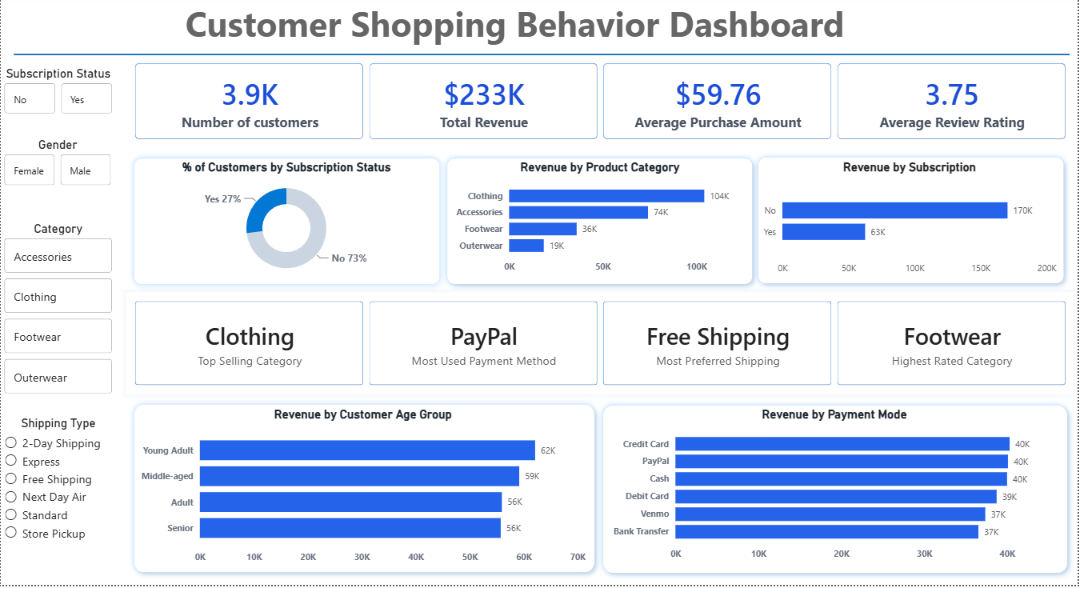

Layout of this report page (visuals, bound fields, positions):
{"tool":"powerbi","page":{"name":"Page 1","canvas":[1500,820],"ordinal":0},"visuals":[{"type":"cardVisual","fields":{"Data":["public customer.Top Selling Category","public customer.Most Used Payment Method","public customer.Most Preferred Shipping","public customer.Highest Rated Category"]},"box":[170,408.6,1330,151.4],"z":0},{"type":"shape","box":[830,561.4,664.3,251.4],"z":1000},{"type":"shape","box":[1045.6,215.6,443.3,193.3],"z":2000},{"type":"shape","box":[612.9,217.1,442.9,192.9],"z":3000},{"type":"shape","box":[177,217,443,193],"z":4000},{"type":"cardVisual","fields":{"Data":["public customer.Number of customers","public customer.Total Revenue","public customer.Average Purchase Amount","public customer.Average Review Rating"]},"box":[170,77.1,1330,140],"z":5000},{"type":"textbox","box":[251.4,0,947.1,77.1],"z":6000},{"type":"donutChart","title":"% of  Customers by Subscription Status","fields":{"Category":["public customer.subscription_status"],"Y":["CountNonNull(public customer.customer_id)"]},"box":[190,229,417,171],"z":7000},{"type":"clusteredBarChart","title":"Revenue by Product Category","fields":{"Category":["public customer.category"],"Y":["Sum(public customer.purchase_amount)"]},"box":[628.6,228.6,412.9,167.1],"z":8000},{"type":"advancedSlicerVisual","fields":{"Values":["public customer.gender"]},"box":[0,196.7,158.9,72.2],"z":9000},{"type":"advancedSlicerVisual","fields":{"Values":["public customer.category"]},"box":[0,312.9,160,248.6],"z":10000},{"type":"listSlicer","fields":{"Values":["public customer.shipping_type"]},"box":[0,584.9,160.2,235.4],"z":11000},{"type":"shape","box":[177,560,659,252],"z":12000},{"type":"clusteredBarChart","title":"Revenue by Customer Age Group","fields":{"Category":["public customer.age_group"],"Y":["Sum(public customer.purchase_amount)"]},"box":[190,572.9,630,227.1],"z":13000},{"type":"shape","box":[18.1,76.6,1470.7,9.7],"z":14000},{"type":"advancedSlicerVisual","fields":{"Values":["public customer.subscription_status"]},"box":[0,97.1,160,71.4],"z":15000},{"type":"clusteredBarChart","title":"Revenue by Subscription","fields":{"Category":["public customer.subscription_status"],"Y":["Sum(public customer.purchase_amount)"]},"box":[1055.7,228.6,420,168.6],"z":16000},{"type":"clusteredBarChart","title":"Revenue by Payment Mode","fields":{"Category":["public customer.payment_method"],"Y":["Sum(public customer.purchase_amount)"]},"box":[847.1,572.9,628.6,222.9],"z":17000}]}

Visuals, with their boxes in screenshot pixels (x1, y1, x2, y2), scaled from the page's 1500x820 canvas onto the 1080x590 screenshot:
cardVisual - public customer.Top Selling Category x public customer.Most Used Payment Method: region(122, 294, 1079, 403)
shape: region(598, 404, 1076, 585)
shape: region(753, 155, 1072, 294)
shape: region(441, 156, 760, 295)
shape: region(127, 156, 446, 295)
cardVisual - public customer.Number of customers x public customer.Total Revenue: region(122, 55, 1079, 156)
textbox: region(181, 0, 863, 55)
"% of  Customers by Subscription Status" donutChart: region(137, 165, 437, 288)
"Revenue by Product Category" clusteredBarChart: region(453, 164, 750, 285)
advancedSlicerVisual - public customer.gender: region(0, 142, 114, 193)
advancedSlicerVisual - public customer.category: region(0, 225, 115, 404)
listSlicer - public customer.shipping_type: region(0, 421, 115, 589)
shape: region(127, 403, 602, 584)
"Revenue by Customer Age Group" clusteredBarChart: region(137, 412, 590, 576)
shape: region(13, 55, 1072, 62)
advancedSlicerVisual - public customer.subscription_status: region(0, 70, 115, 121)
"Revenue by Subscription" clusteredBarChart: region(760, 164, 1063, 286)
"Revenue by Payment Mode" clusteredBarChart: region(610, 412, 1063, 573)
